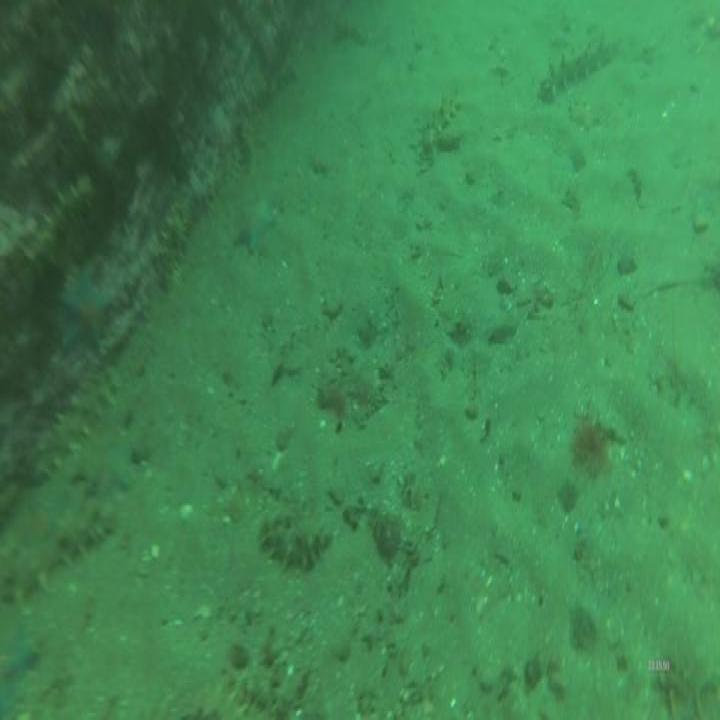holothurian: (20, 166, 94, 284), (257, 507, 332, 585), (536, 34, 621, 101), (51, 507, 119, 567), (232, 668, 300, 720), (157, 197, 187, 290), (425, 94, 463, 155)
starfish: (60, 267, 114, 359), (231, 190, 279, 260), (0, 629, 36, 720), (92, 437, 134, 503), (203, 107, 241, 160)
